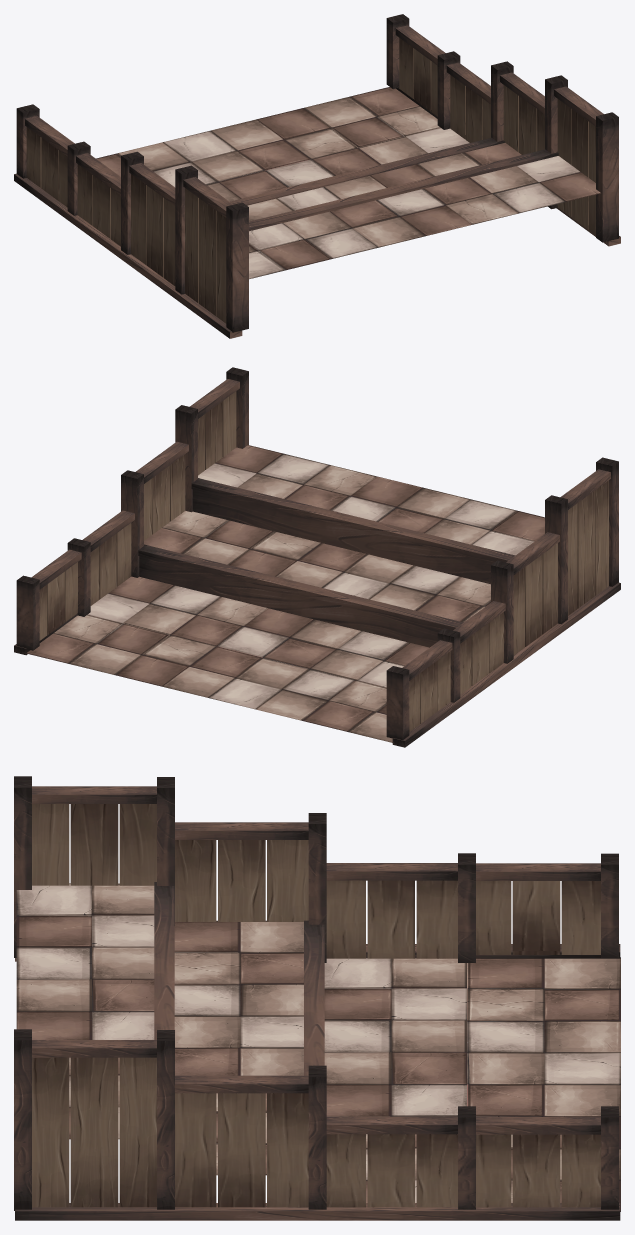
Rendered from Straight2_wall.fbx.
3 renders of one model, top to bottom at view 1: azimuth 30°, elevation 25°; view 2: azimuth 150°, elevation 25°; view 3: azimuth 270°, elevation 25°, orthographic. The views are drawn at different scales.
Parts seen in each view (by area): view 1: Straight2_wall; view 2: Straight2_wall; view 3: Straight2_wall.
Part boxes in pixels (bbox=[...]): Straight2_wall: bbox=[14, 14, 620, 338]; Straight2_wall: bbox=[14, 367, 620, 747]; Straight2_wall: bbox=[14, 776, 620, 1220].
Bounding box in the file's own units: 0.6311 × 0.1965 × 0.6053.
